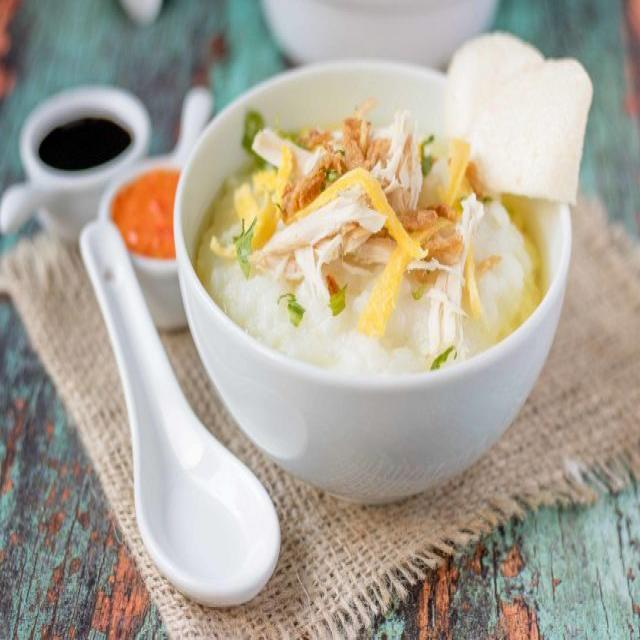bubur ayam: (197, 130, 546, 370)
mangkuk: (173, 57, 575, 507), (97, 154, 201, 336), (261, 0, 500, 70)
sambal: (110, 168, 180, 260)
